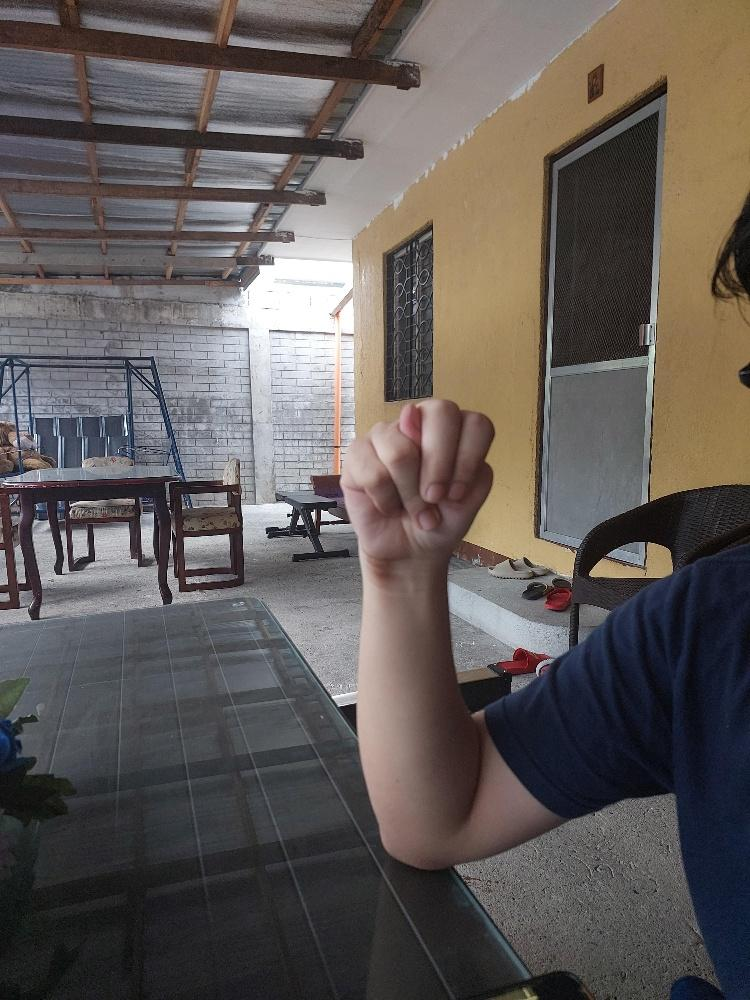n: (337, 394, 497, 572)
